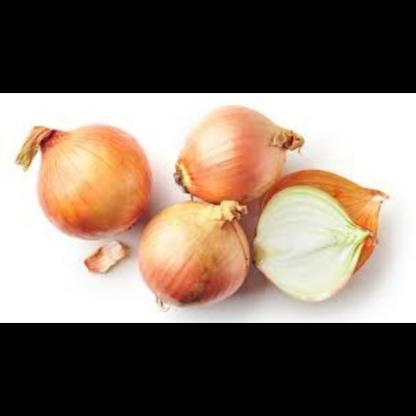onion: (20, 114, 150, 233), (259, 180, 376, 309), (263, 166, 391, 272), (134, 201, 259, 308), (172, 98, 292, 206)
